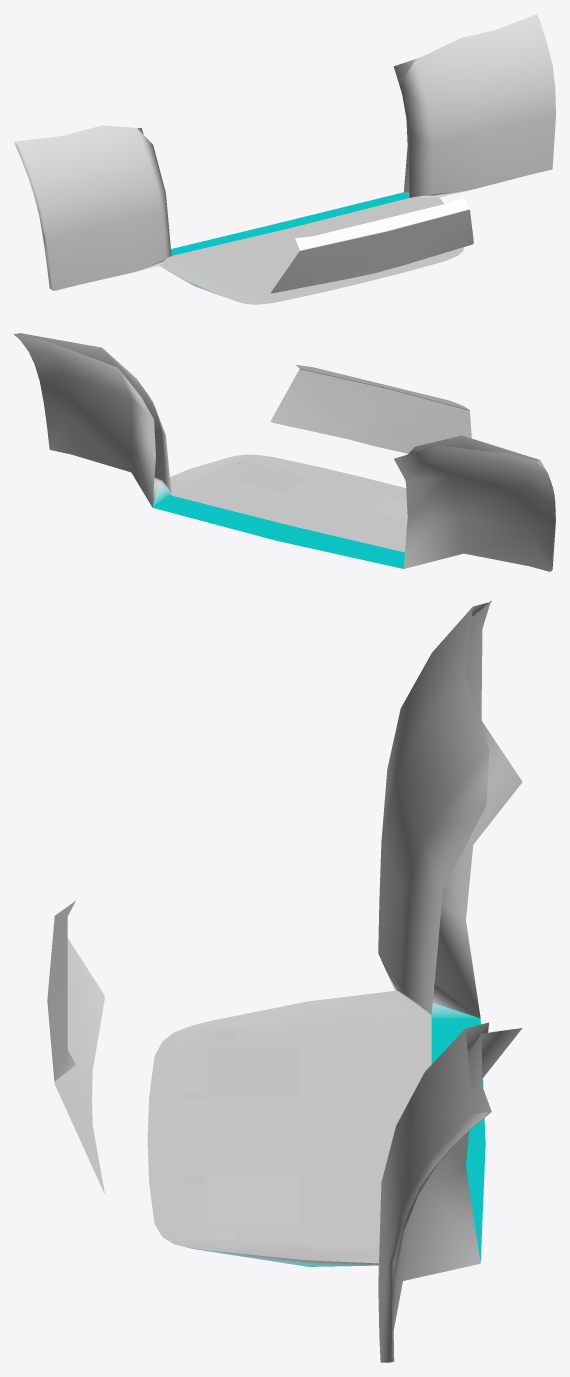
Rendered from Car_Ford_GT_2017_BumperChassisF_SetB.fbx.
The picture shows the model from 3 angles, top to bottom: view 1: azimuth 30°, elevation 25°; view 2: azimuth 150°, elevation 25°; view 3: azimuth 270°, elevation 25°; orthographic projection. The views are drawn at different scales.
Visible parts, largest first — view 1: BumperChassisF 6; view 2: BumperChassisF 6; view 3: BumperChassisF 6.
Boxes of the visible parts, x1,y1,x2,y2 form: BumperChassisF 6: (14,14,555,304); BumperChassisF 6: (14,333,555,571); BumperChassisF 6: (47,600,522,1362).
Bounding box in the file's own units: 1.92 × 0.5143 × 0.7567.
